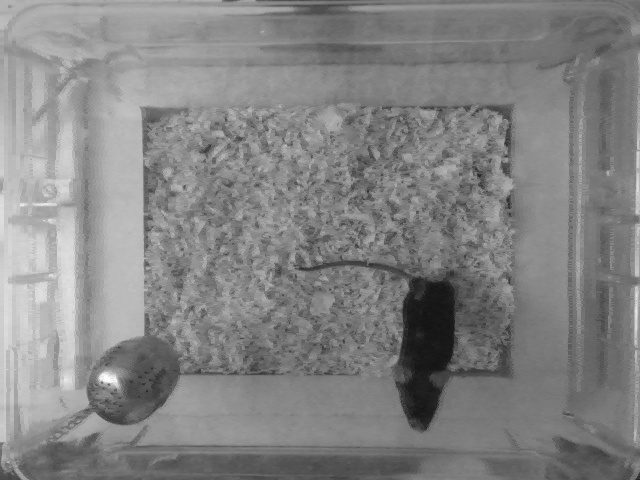mice: (292, 256, 467, 437)
